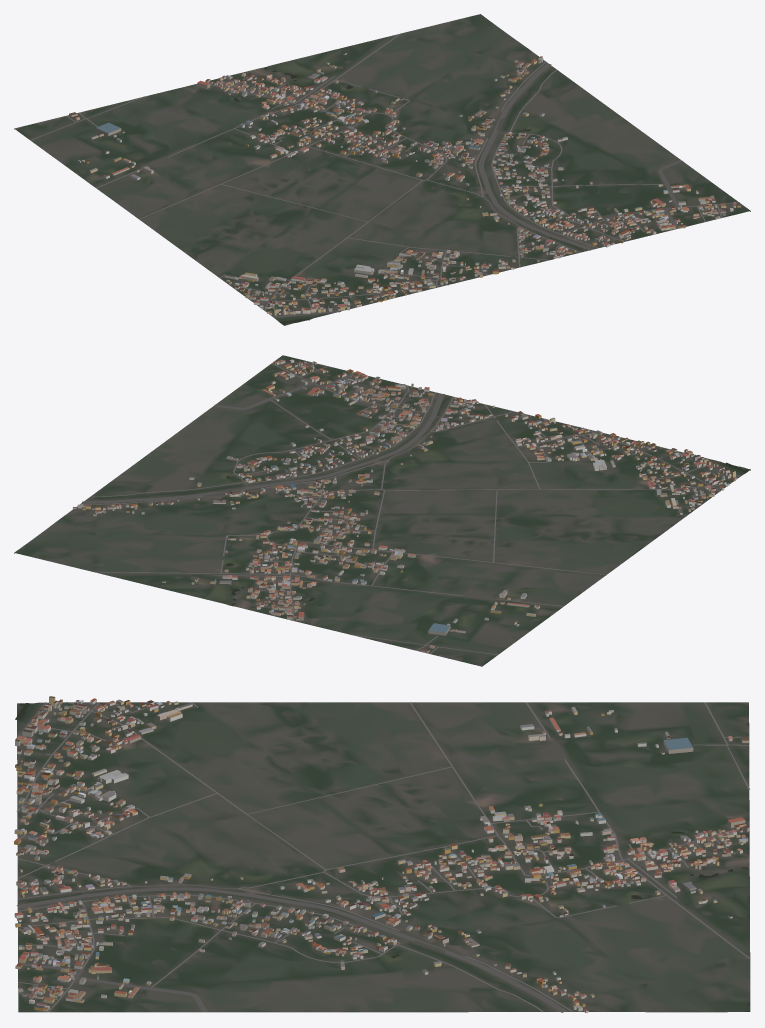
The picture shows the model from 3 angles, top to bottom: view 1: azimuth 30°, elevation 25°; view 2: azimuth 150°, elevation 25°; view 3: azimuth 270°, elevation 25°; orthographic projection. The views are drawn at different scales.
Parts seen in each view (by area): view 1: ground, buildings, roads; view 2: ground, buildings, roads; view 3: ground, buildings, roads.
Boxes of the visible parts, x1=… form: ground: x1=14, y1=14, x2=750, y2=325; buildings: x1=69, y1=52, x2=740, y2=315; roads: x1=30, y1=33, x2=732, y2=317; ground: x1=14, y1=355, x2=750, y2=666; buildings: x1=72, y1=358, x2=736, y2=653; roads: x1=82, y1=362, x2=740, y2=654; ground: x1=17, y1=702, x2=750, y2=1012; buildings: x1=14, y1=696, x2=749, y2=1012; roads: x1=15, y1=702, x2=750, y2=1012.
Size of the model in its own units: 1411 by 22.32 by 1411.
